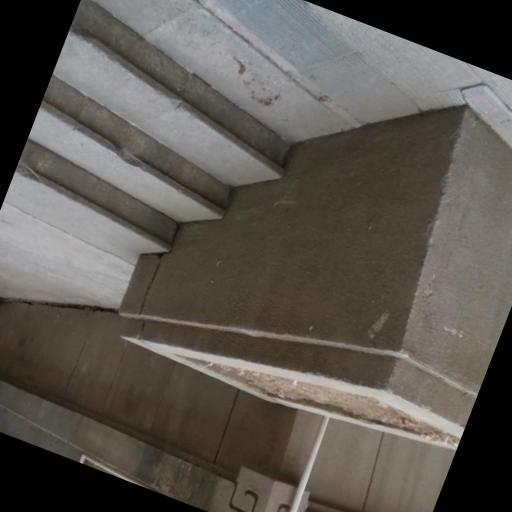stairs: (5, 0, 287, 261)
